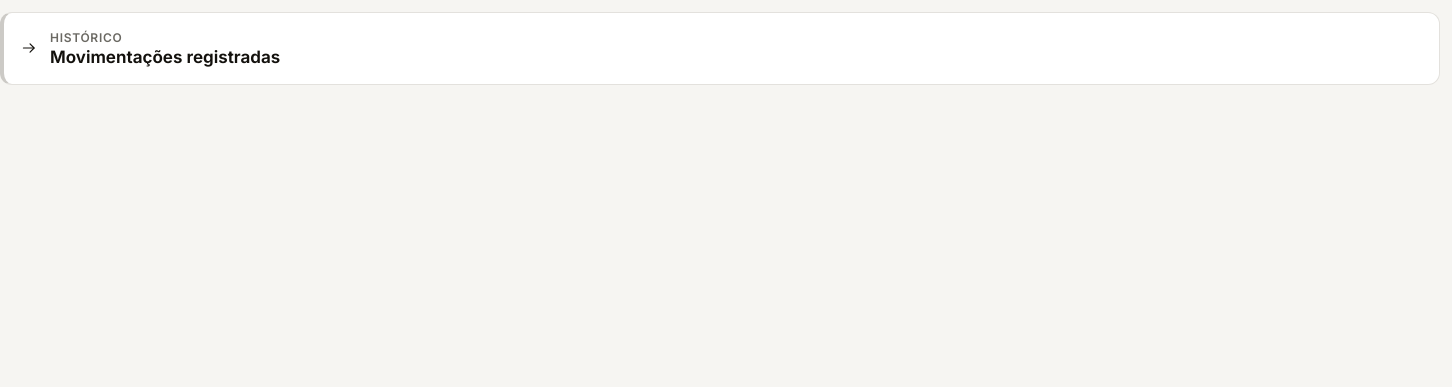
histórico de movimentações › carrega e lista as movimentações ao abrir
What coordinates should you click on to do the following:
click the button "Histórico Movimentações registradas"
I would click on:
 (86, 38)
Its box is [4, 13, 1439, 84].
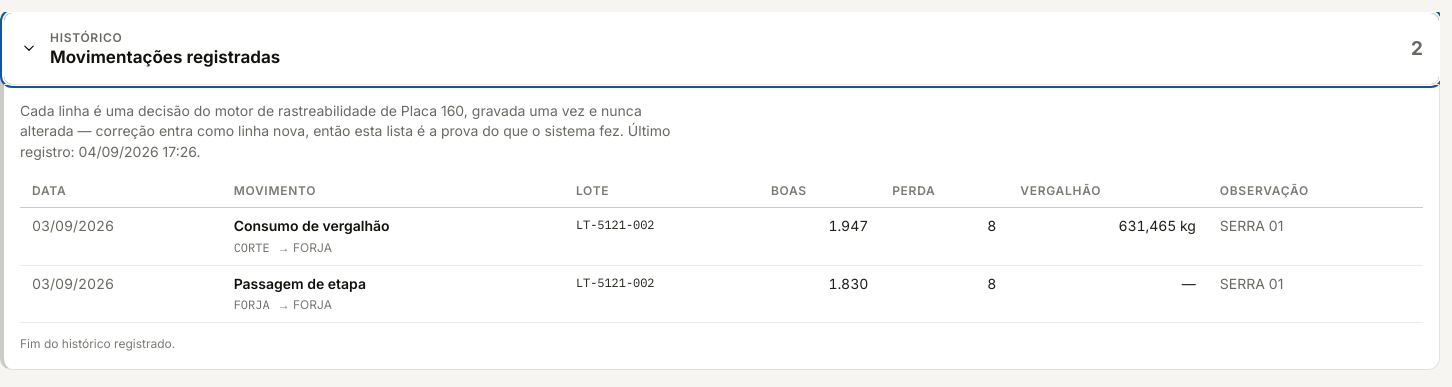
expect the text "Consumo de vergalhão" is shown: met, box [234, 217, 390, 234]
expect the text "Passagem de etapa" is shown: met, box [234, 275, 366, 292]
expect the text "LT-5121-002" in the row of "Consumo de vergalhão" is shown: met, box [576, 217, 654, 232]
